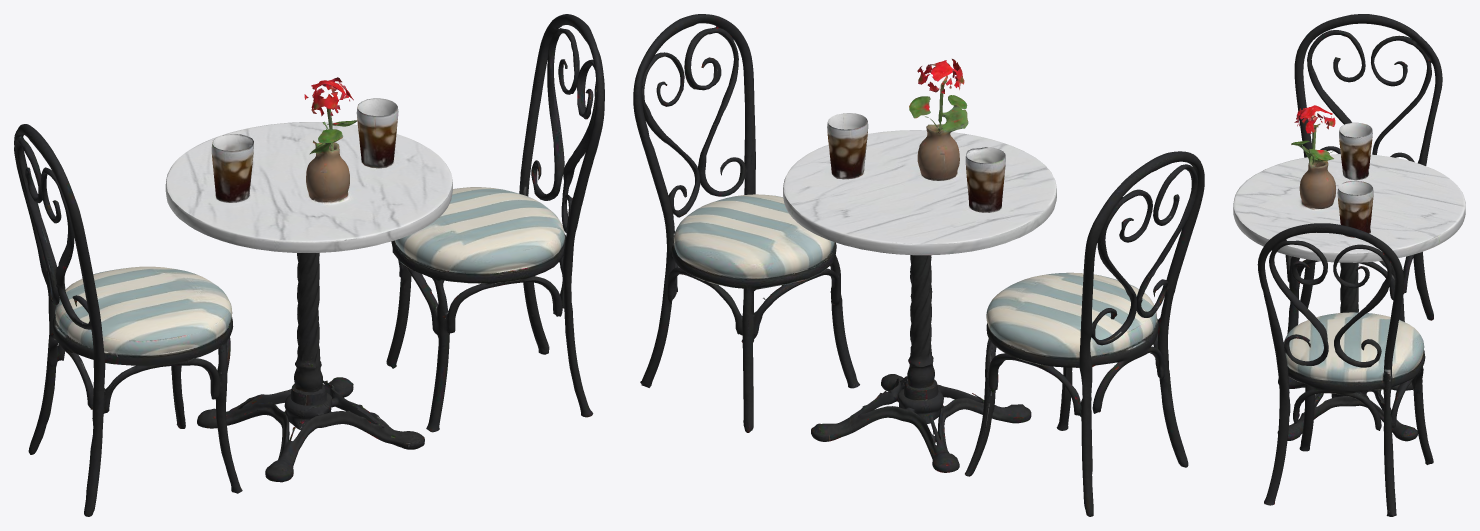
Rendered from cafeTable.glb.
The picture shows the model from 3 angles, left to right: view 1: azimuth 30°, elevation 25°; view 2: azimuth 150°, elevation 25°; view 3: azimuth 270°, elevation 25°; orthographic projection. The views are drawn at different scales.
Bounding box in the file's own units: 1.9 × 1.24 × 0.8574.
Materials: 1 (1 with a texture image).
